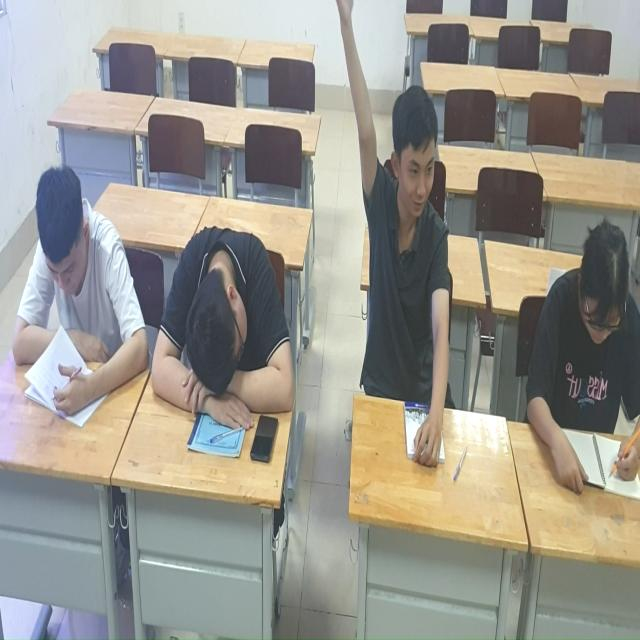raise_hand: (337, 1, 463, 459)
read: (9, 155, 145, 422), (519, 215, 640, 499)
sleep: (153, 206, 302, 435)
